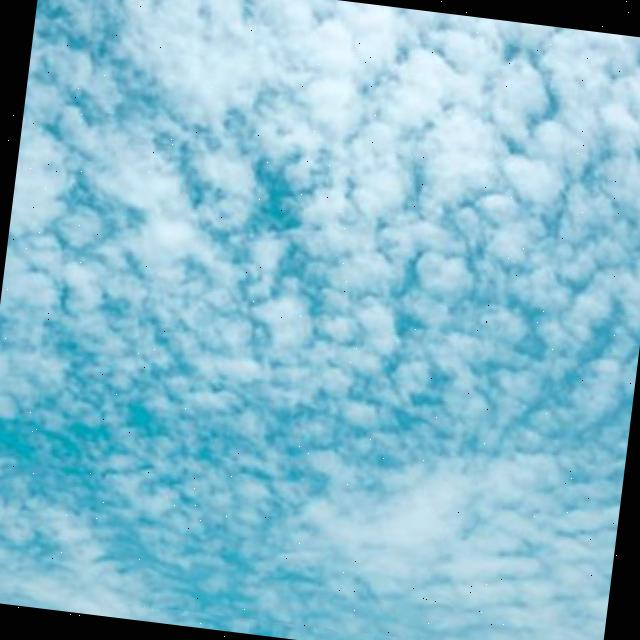Cs: (1, 1, 634, 586)
